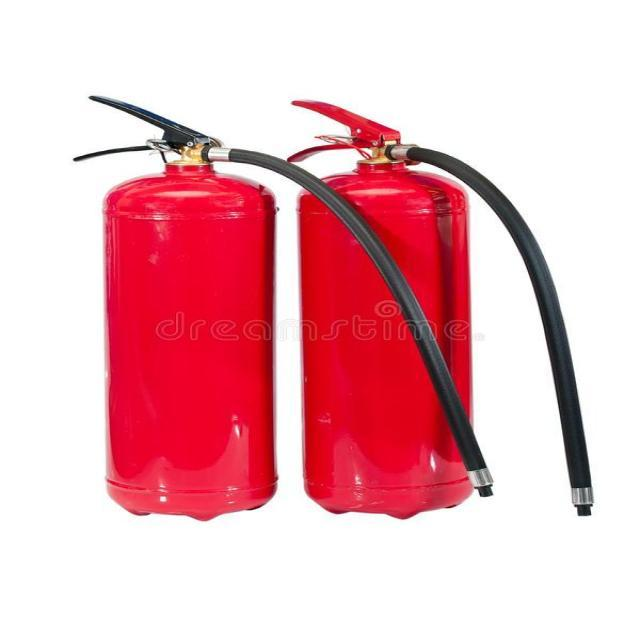fire_extinguisher: (58, 90, 500, 526), (272, 90, 603, 530)
